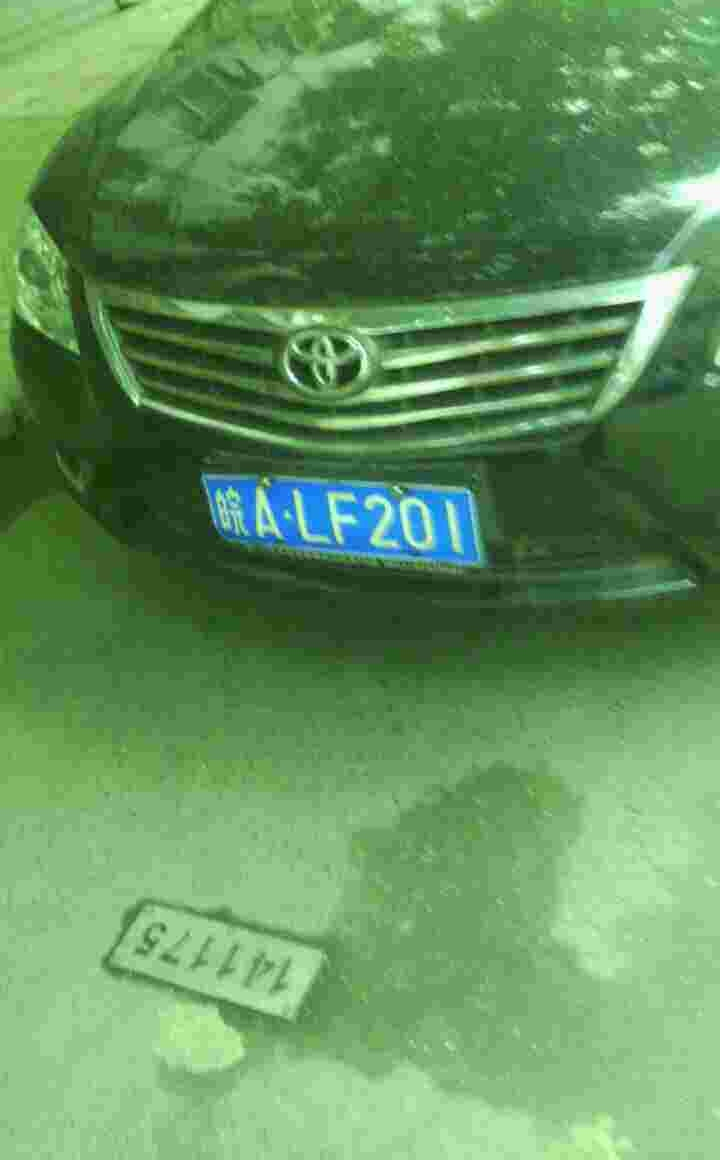license_plate: (200, 471, 476, 567)
